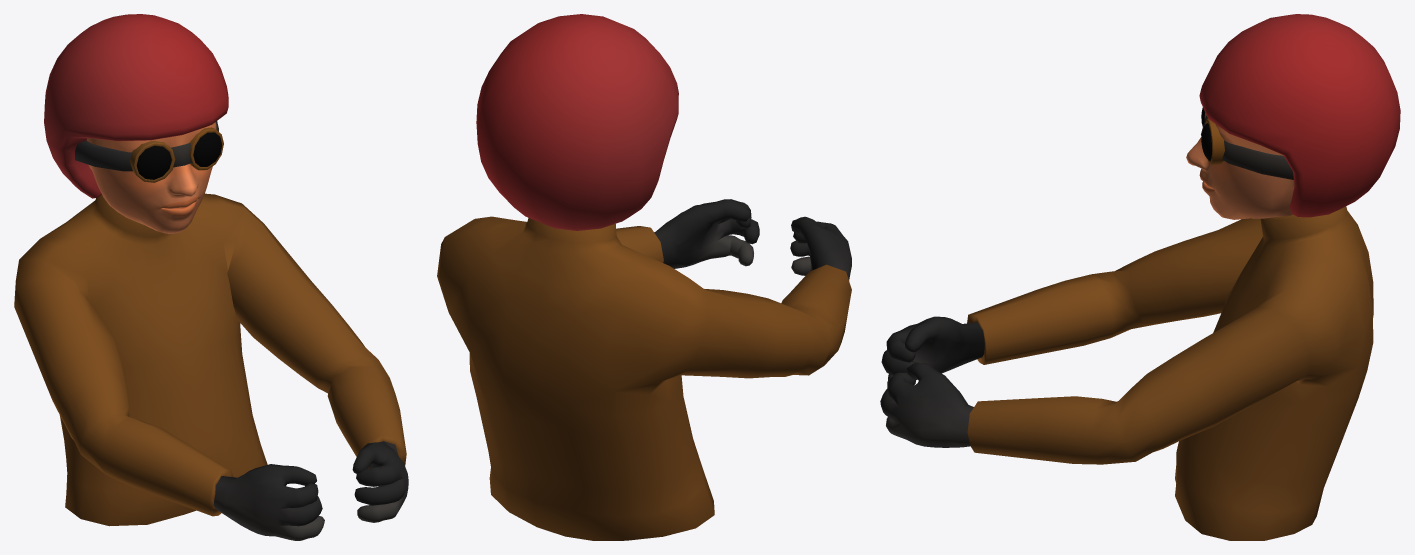
File: Pilot_Mdl_V01.fbx
3 renders of one model, left to right at view 1: azimuth 30°, elevation 25°; view 2: azimuth 150°, elevation 25°; view 3: azimuth 270°, elevation 25°, orthographic. The views are drawn at different scales.
Visible parts, largest first — view 1: Man_Body_V04; view 2: Man_Body_V04; view 3: Man_Body_V04.
Boxes of the visible parts, x1,y1,x2,y2 form: Man_Body_V04: (14,14,408,540); Man_Body_V04: (437,14,851,540); Man_Body_V04: (880,14,1400,540).
Size of the model in its own units: 0.5339 by 0.7785 by 0.7641.
